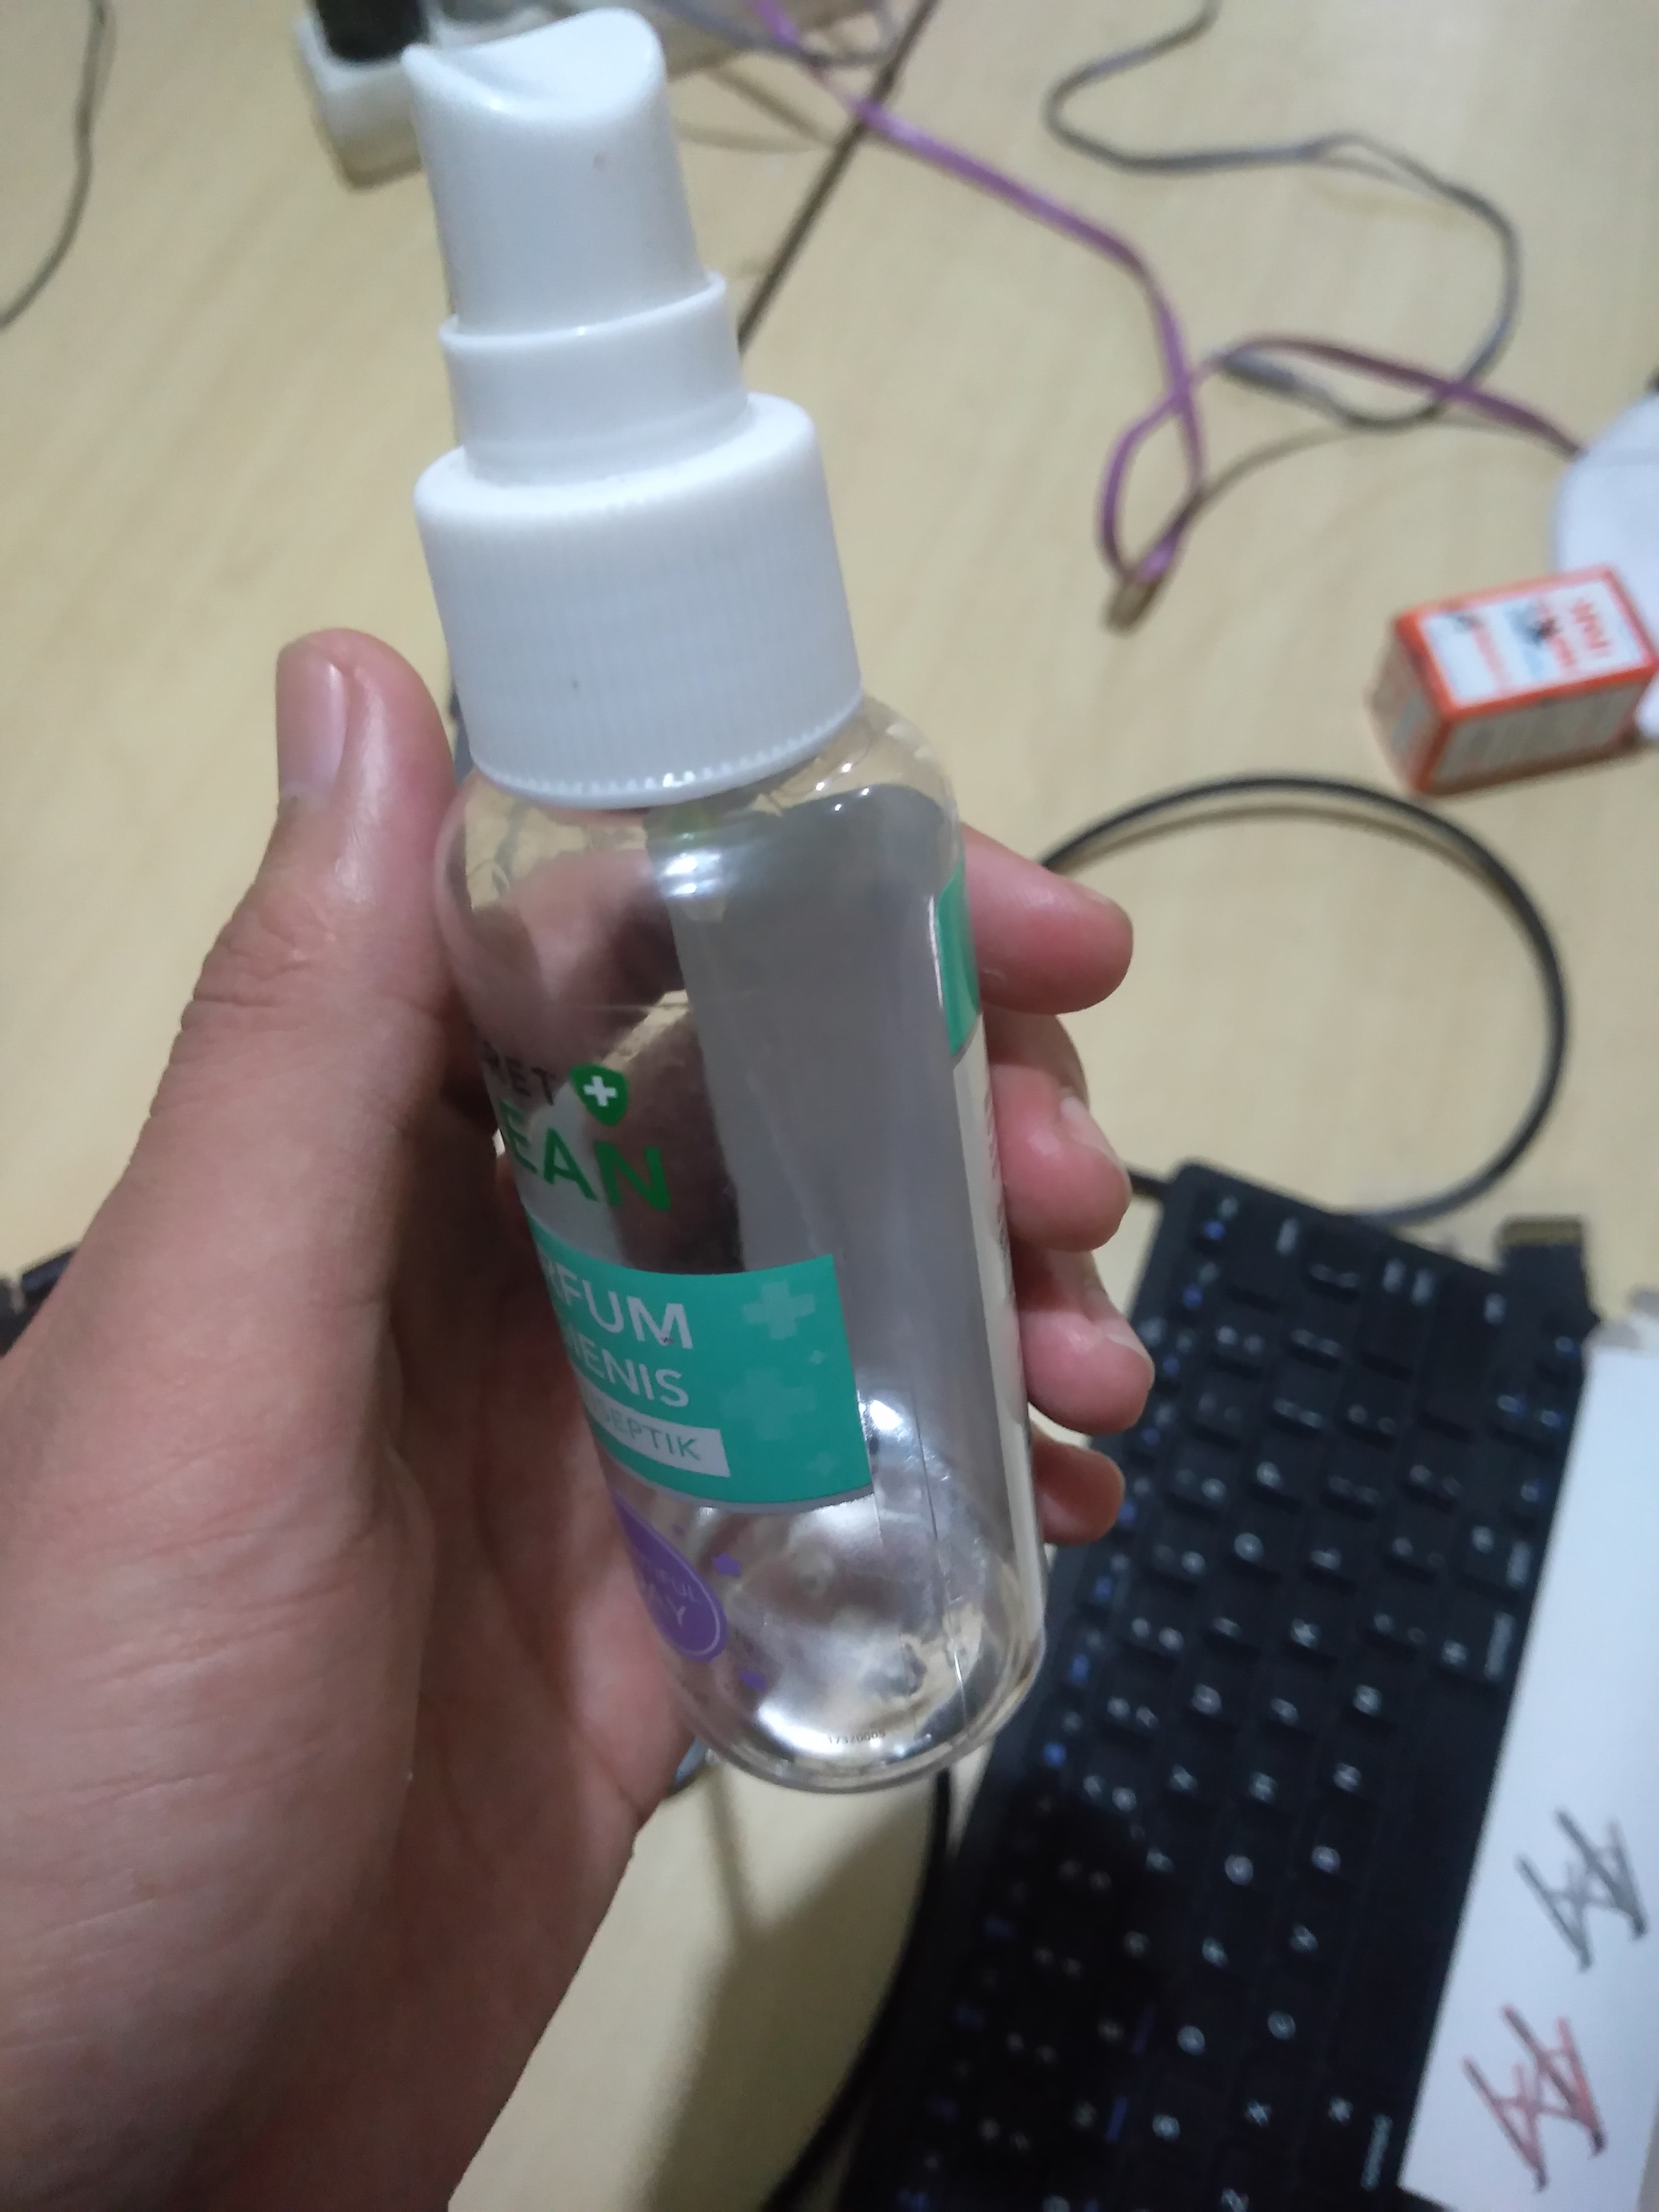hand sanitizer: (343, 16, 1133, 1824)
